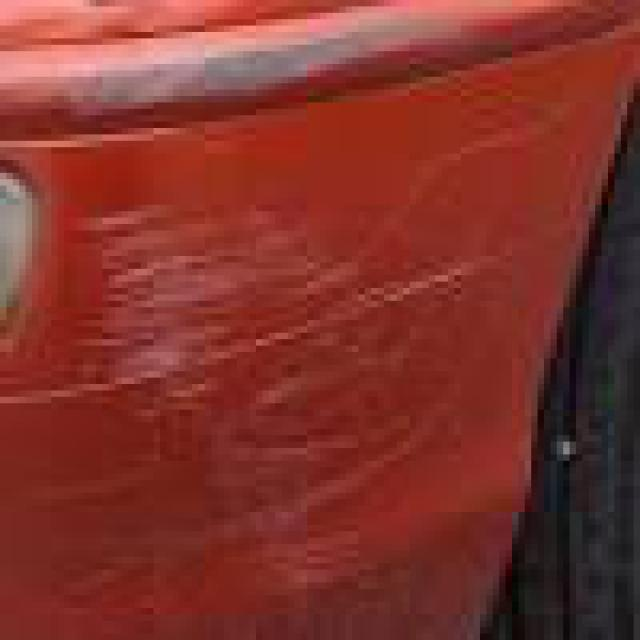front-bumper-dent: (0, 0, 639, 634)
